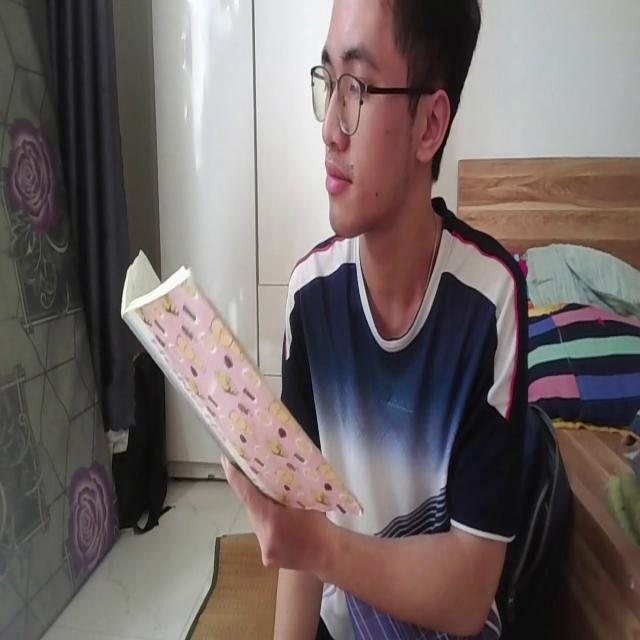book: (123, 246, 364, 518)
student: (273, 0, 525, 640)
